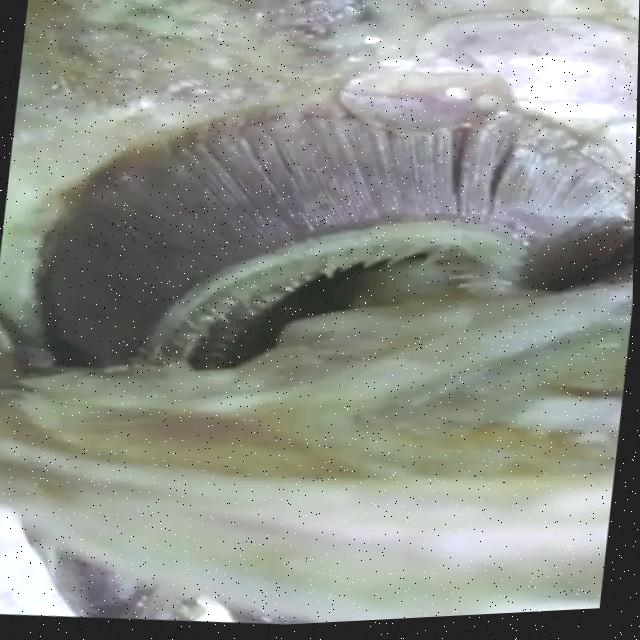Non-Fresh: (33, 63, 638, 407)
